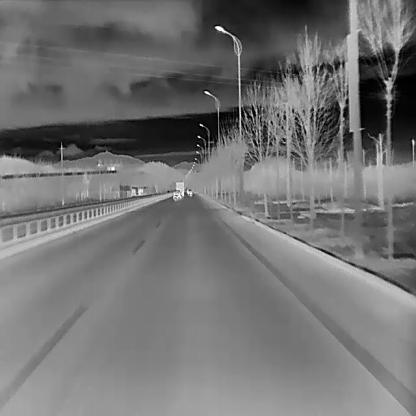car: (172, 188, 182, 200), (186, 188, 192, 197)
truck: (174, 181, 184, 199)
